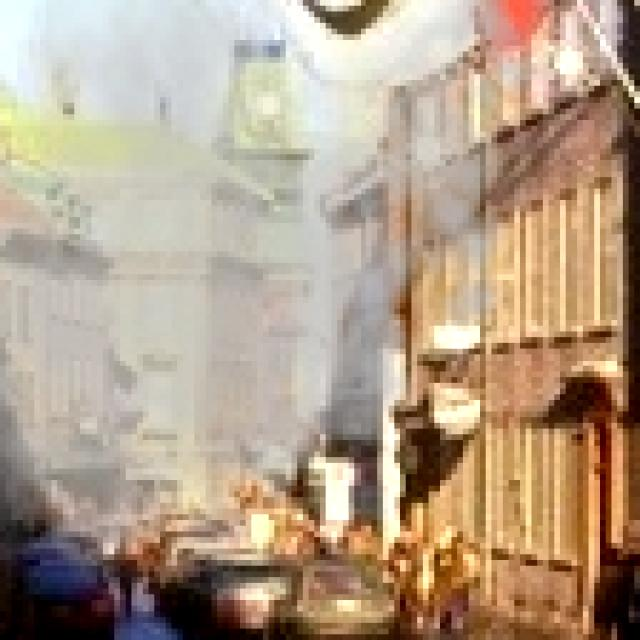smoke: (0, 0, 549, 600)
